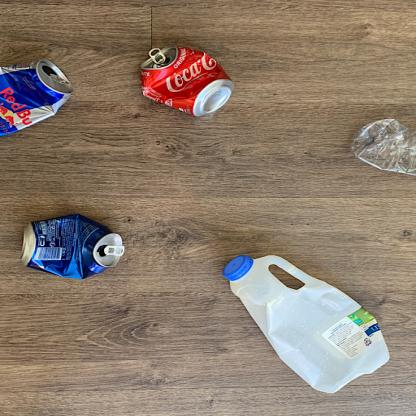trash: (224, 252, 396, 397), (140, 45, 243, 126), (19, 213, 128, 280), (2, 55, 77, 137), (350, 116, 416, 181)
